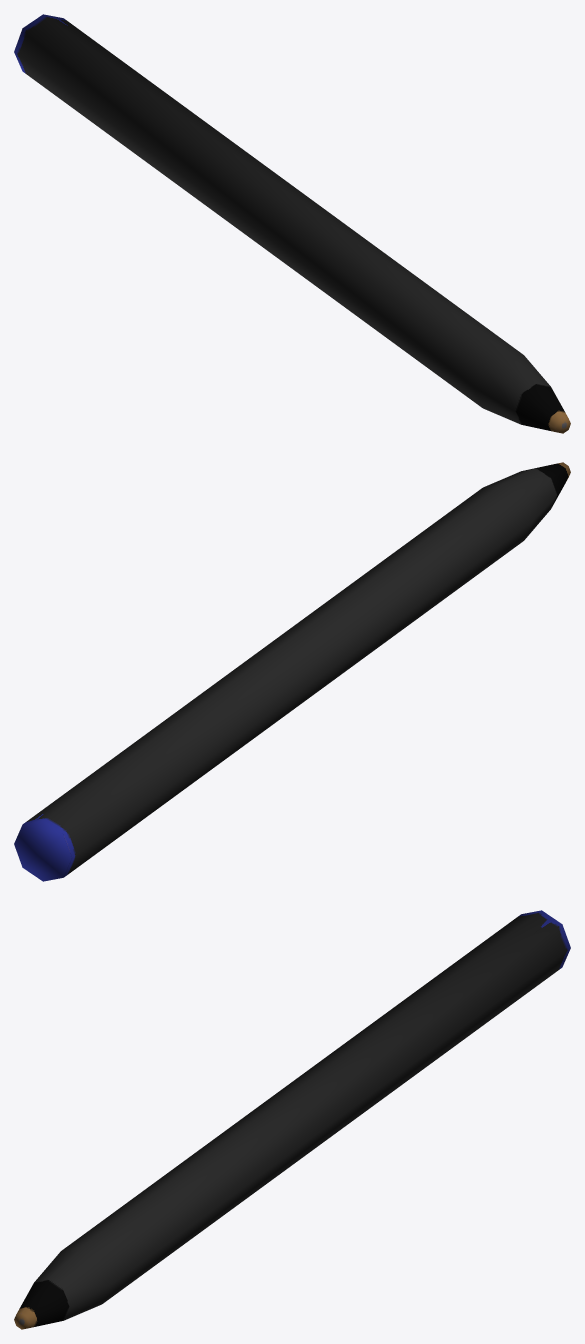
Rendered from Pen.fbx.
The picture shows the model from 3 angles, top to bottom: view 1: azimuth 30°, elevation 25°; view 2: azimuth 150°, elevation 25°; view 3: azimuth 330°, elevation 25°; orthographic projection.
Parts seen in each view (by area): view 1: ExportPen; view 2: ExportPen; view 3: ExportPen.
Boxes of the visible parts, x1=… form: ExportPen: x1=14, y1=14, x2=570, y2=433; ExportPen: x1=14, y1=462, x2=570, y2=881; ExportPen: x1=14, y1=910, x2=570, y2=1329.
Bounding box in the file's own units: 0.8686 × 0.8686 × 13.43.
